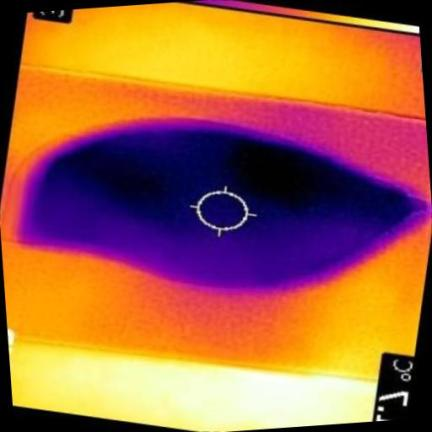mango: (18, 121, 427, 291)
